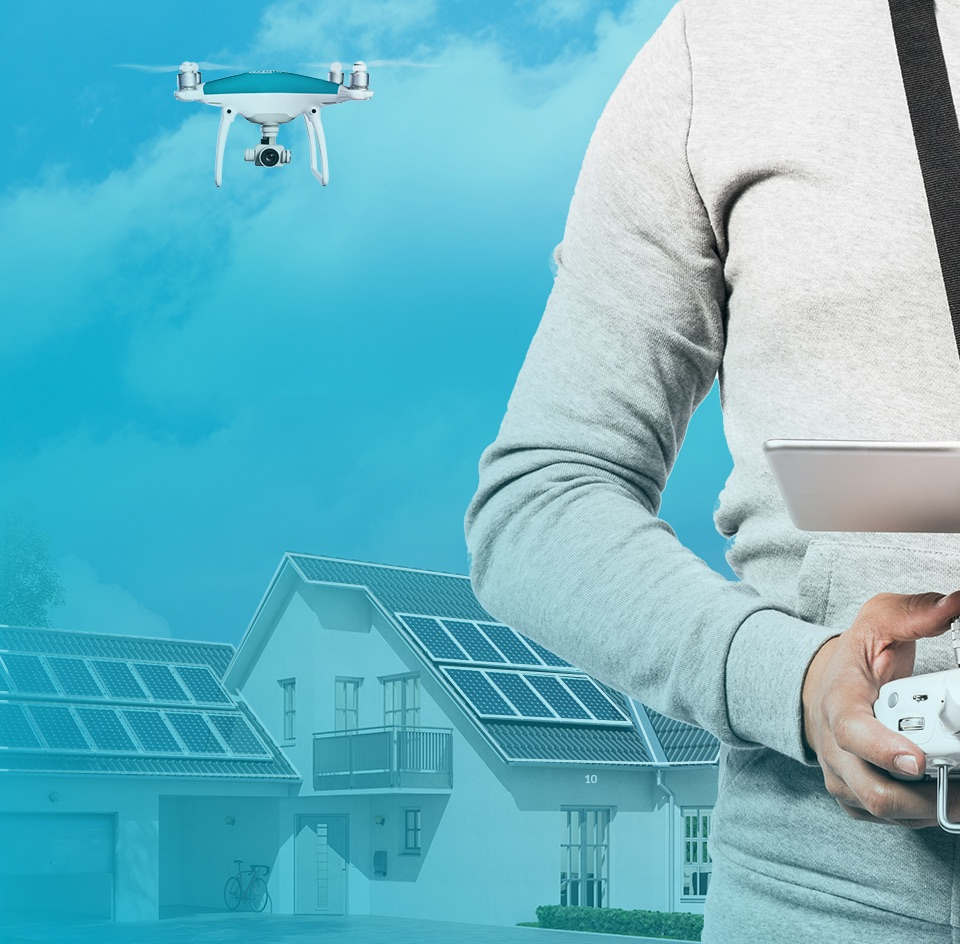drone: (109, 39, 437, 204)
